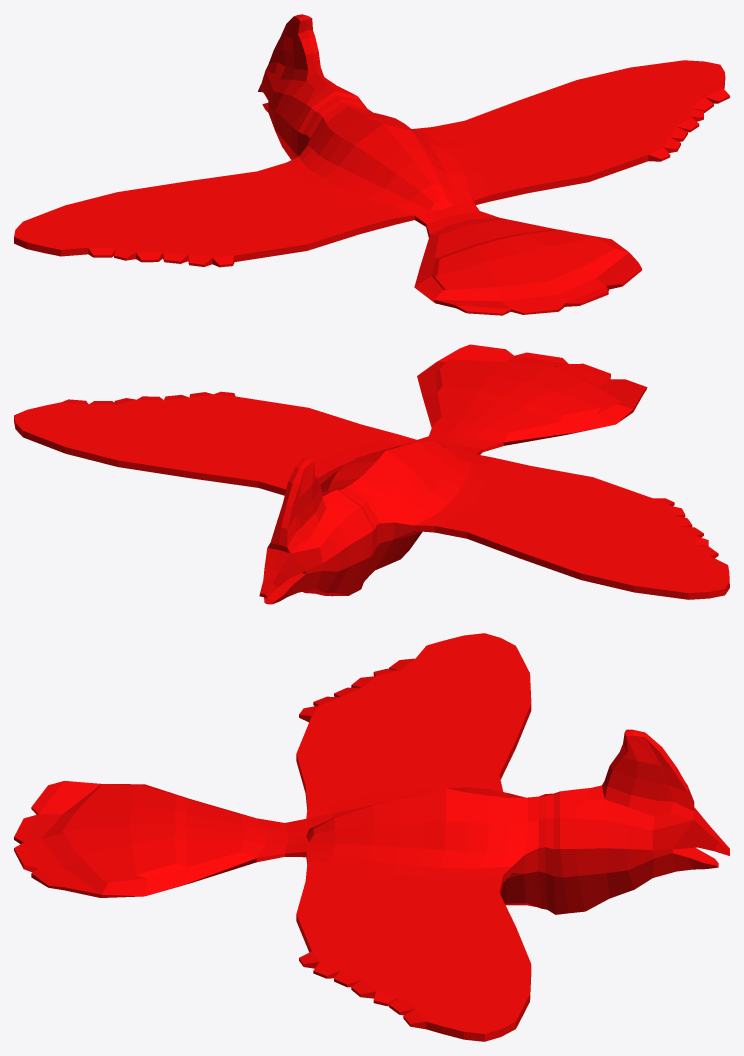
The model's file is Model_LowPolyCardinal.FBX.
3 views of the same model, one above another, from view 1: azimuth 30°, elevation 25°; view 2: azimuth 150°, elevation 25°; view 3: azimuth 270°, elevation 25° (orthographic). The views are drawn at different scales.
Parts seen in each view (by area): view 1: Sphere001; view 2: Sphere001; view 3: Sphere001.
Boxes of the visible parts, x1,y1,x2,y2 form: Sphere001: (14,14,729,315); Sphere001: (14,344,729,604); Sphere001: (14,633,729,1041).
Size of the model in its own units: 33.5 by 7.04 by 25.28.
